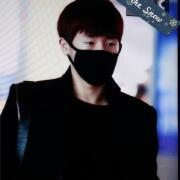OK: (72, 34, 126, 88)
